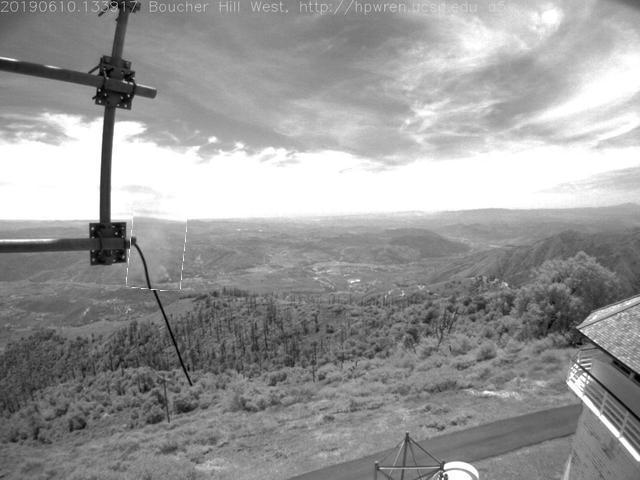smoke: (129, 210, 187, 292)
